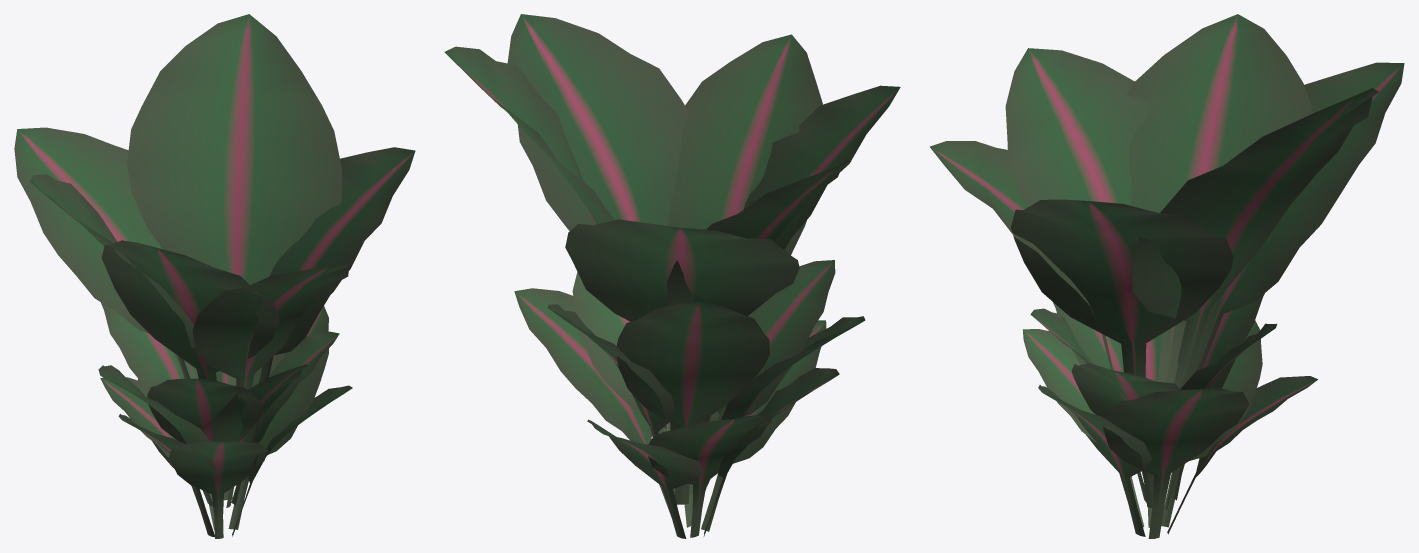
File: natural-broadleaf.glb
The picture shows the model from 3 angles, left to right: view 1: azimuth 30°, elevation 25°; view 2: azimuth 150°, elevation 25°; view 3: azimuth 270°, elevation 25°; orthographic projection. The views are drawn at different scales.
Visible parts, largest first — view 1: Broadleaf; view 2: Broadleaf; view 3: Broadleaf.
Part boxes in pixels (x1,y1,x2,y2): Broadleaf: [14, 14, 415, 538]; Broadleaf: [444, 14, 900, 538]; Broadleaf: [930, 14, 1404, 538].
Size of the model in its own units: 0.9244 by 1.17 by 1.
